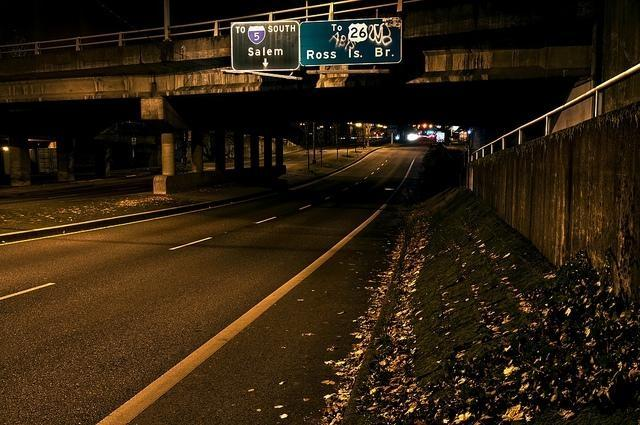car: (407, 132, 418, 144), (416, 130, 424, 142), (426, 135, 431, 138)
